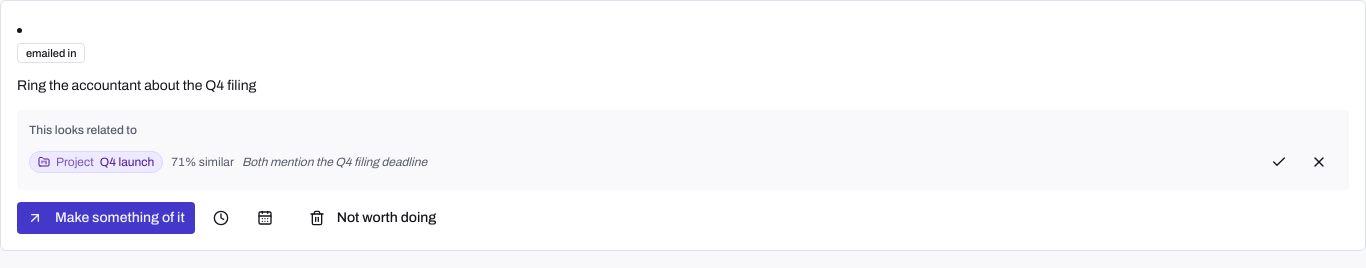
Test: ThoughtCard › does not refresh, and surfaces the message, when dropping fails
This screenshot has width=1366, height=268.
Click the button "Not worth doing" at point(373, 218), box [299,202,446,234]
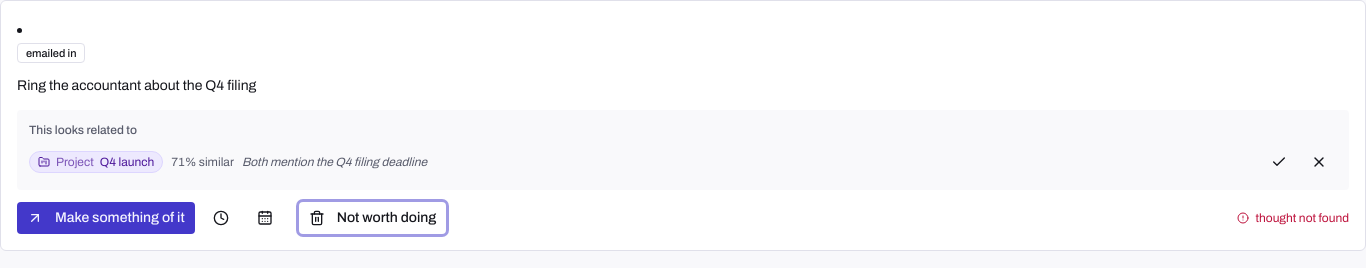
Now the text "thought not found" is shown, box [1238,210,1349,226]
